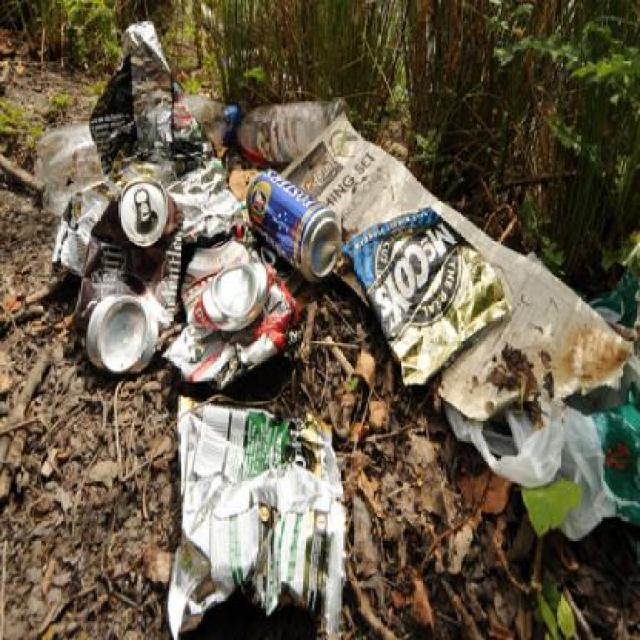garbage: (66, 42, 254, 386), (320, 178, 504, 390), (174, 403, 337, 610), (237, 168, 342, 280)
